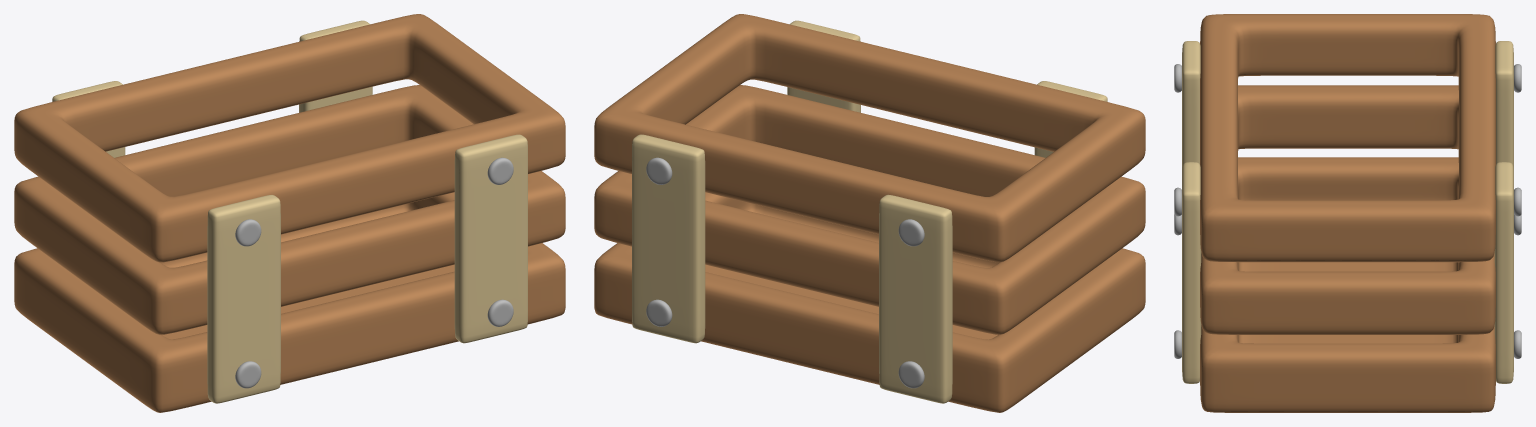
The model's file is Crate_Wooden_Empty.glb.
3 views of the same model, side by side, from view 1: azimuth 30°, elevation 25°; view 2: azimuth 150°, elevation 25°; view 3: azimuth 270°, elevation 25° (orthographic).
Visible parts, largest first — view 1: Crate_Wooden_Empty_Body, Crate_Wooden_Empty_Planks, Crate_Wooden_Empty_Nails; view 2: Crate_Wooden_Empty_Body, Crate_Wooden_Empty_Planks, Crate_Wooden_Empty_Nails; view 3: Crate_Wooden_Empty_Body, Crate_Wooden_Empty_Planks, Crate_Wooden_Empty_Nails.
Part boxes in pixels (<box>): Crate_Wooden_Empty_Body: <box>14,14,565,412</box>; Crate_Wooden_Empty_Planks: <box>52,20,527,403</box>; Crate_Wooden_Empty_Nails: <box>235,157,513,388</box>; Crate_Wooden_Empty_Body: <box>594,14,1145,412</box>; Crate_Wooden_Empty_Planks: <box>632,20,1107,403</box>; Crate_Wooden_Empty_Nails: <box>646,157,924,388</box>; Crate_Wooden_Empty_Body: <box>1200,14,1495,412</box>; Crate_Wooden_Empty_Planks: <box>1182,41,1513,383</box>; Crate_Wooden_Empty_Nails: <box>1174,64,1521,358</box>.
Bounding box in the file's own units: 1.22 × 0.5754 × 0.8873.
